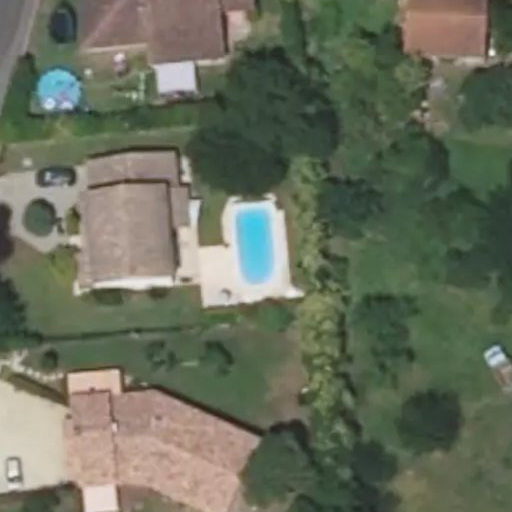pool: (235, 208, 276, 275)
